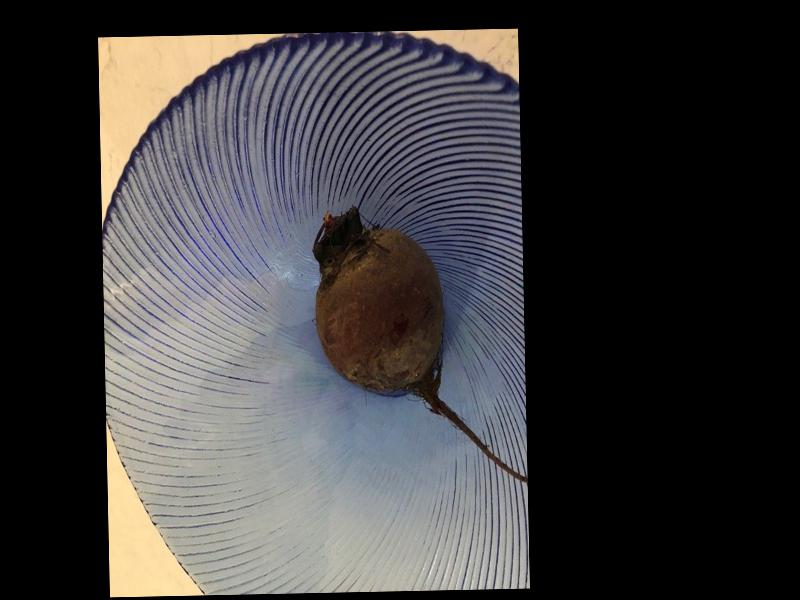Beet: (313, 204, 527, 485)
